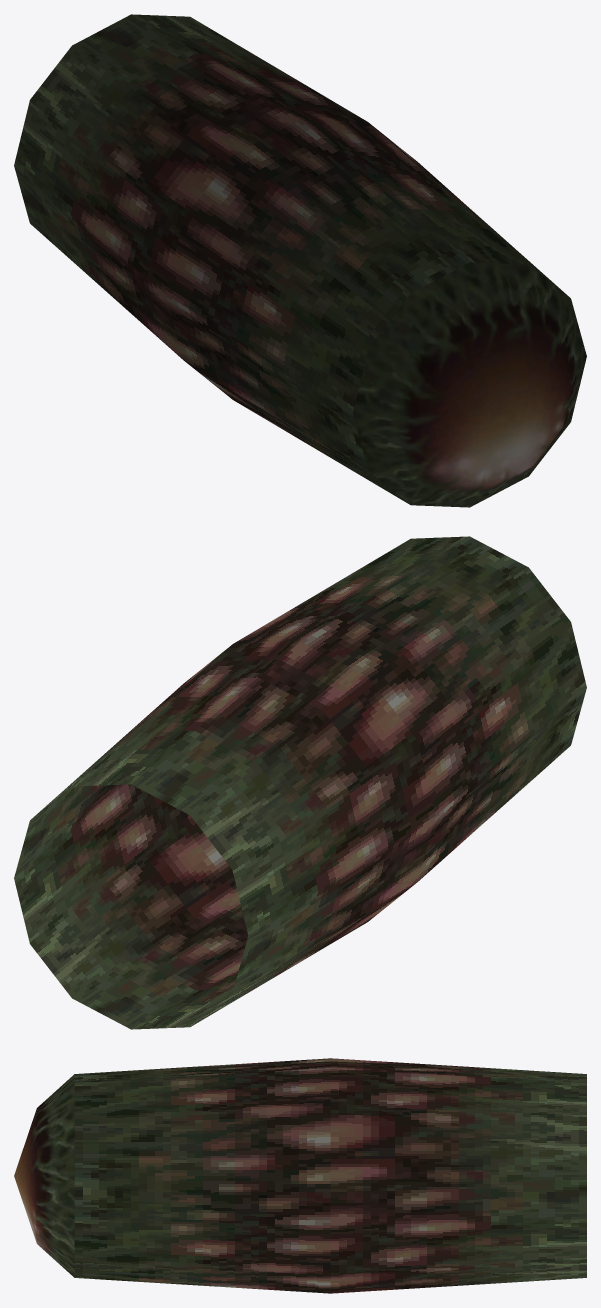
The picture shows the model from 3 angles, top to bottom: view 1: azimuth 30°, elevation 25°; view 2: azimuth 150°, elevation 25°; view 3: azimuth 270°, elevation 25°; orthographic projection. The views are drawn at different scales.
Parts seen in each view (by area): view 1: Joint_0_Object_1, Joint_0_Object_0; view 2: Joint_0_Object_1; view 3: Joint_0_Object_1, Joint_0_Object_0.
Part boxes in pixels (x1,y1,x2,y2): Joint_0_Object_1: (14,14,567,504); Joint_0_Object_0: (352,262,586,507); Joint_0_Object_1: (14,536,586,1029); Joint_0_Object_1: (74,1058,586,1293); Joint_0_Object_0: (14,1074,74,1277).
Bounding box in the file's own units: 4.5 × 4.5 × 10.94.
Materials: 2 (2 with a texture image).
